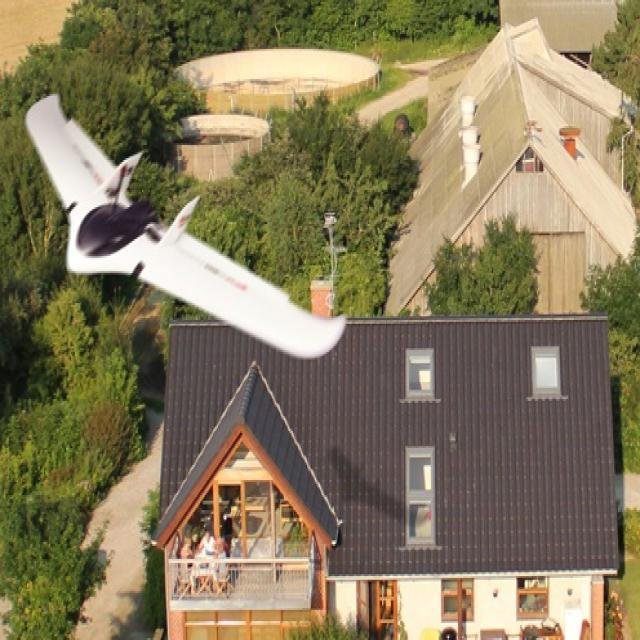iha: (27, 90, 351, 361)
